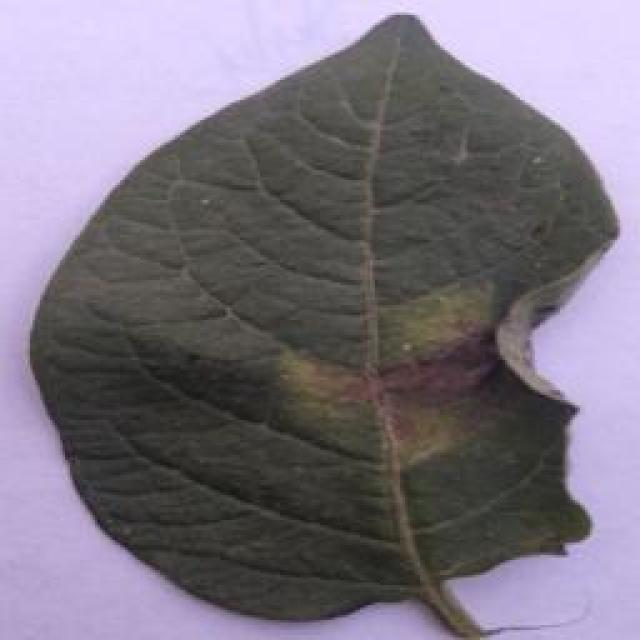Potato_Late_Blight: (1, 6, 632, 634)
